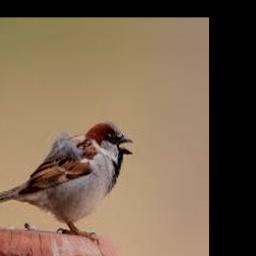Sparrow: (0, 120, 134, 243)
